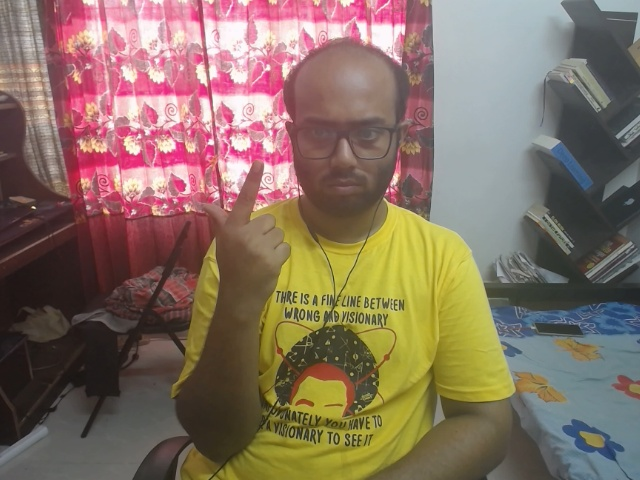seven: (192, 147, 312, 314)
